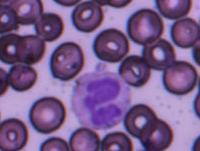N: (70, 69, 131, 130)
